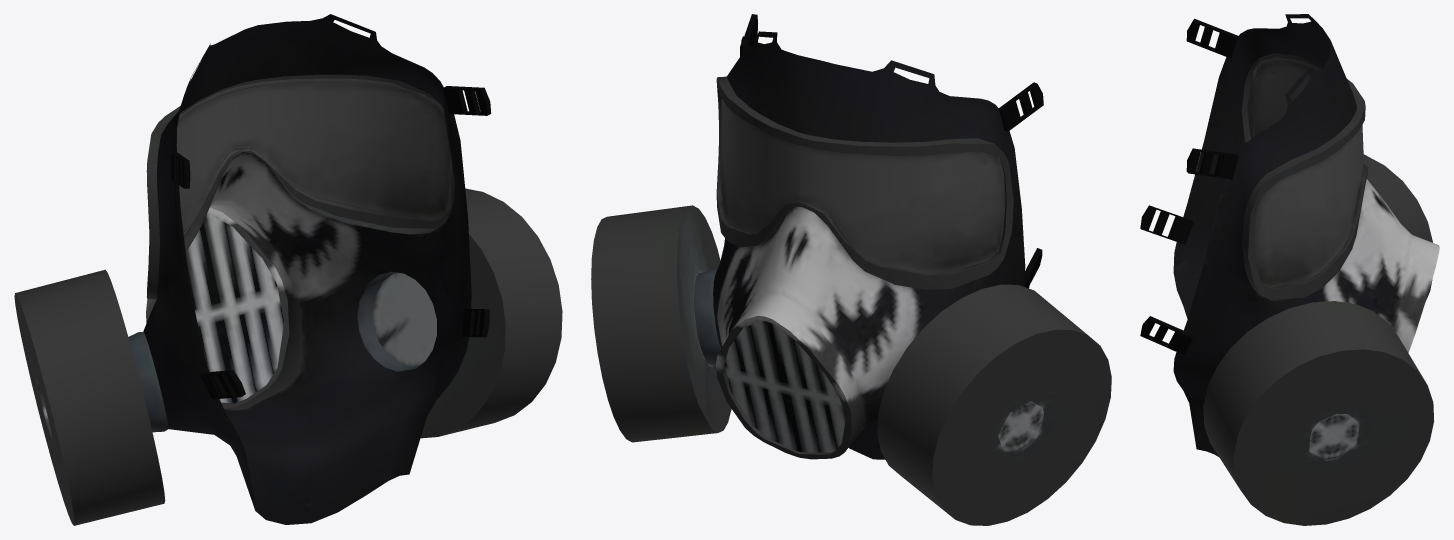
The model's file is gas_mask_skull_lod1.glb.
The picture shows the model from 3 angles, left to right: view 1: azimuth 30°, elevation 25°; view 2: azimuth 150°, elevation 25°; view 3: azimuth 270°, elevation 25°; orthographic projection. The views are drawn at different scales.
Parts seen in each view (by area): view 1: gas_mask_skull_3, gas_mask_skull_2; view 2: gas_mask_skull_3, gas_mask_skull_2; view 3: gas_mask_skull_3, gas_mask_skull_2.
Boxes of the visible parts, left/top/right/bottom form: gas_mask_skull_3: left=14, top=14, right=562, bottom=525; gas_mask_skull_2: left=171, top=86, right=491, bottom=399; gas_mask_skull_3: left=591, top=31, right=1111, bottom=525; gas_mask_skull_2: left=740, top=14, right=1043, bottom=288; gas_mask_skull_3: left=1173, top=14, right=1439, bottom=525; gas_mask_skull_2: left=1140, top=18, right=1238, bottom=354.
Size of the model in its own units: 0.289 by 0.2526 by 0.1644.
2 materials, 1 textured.
